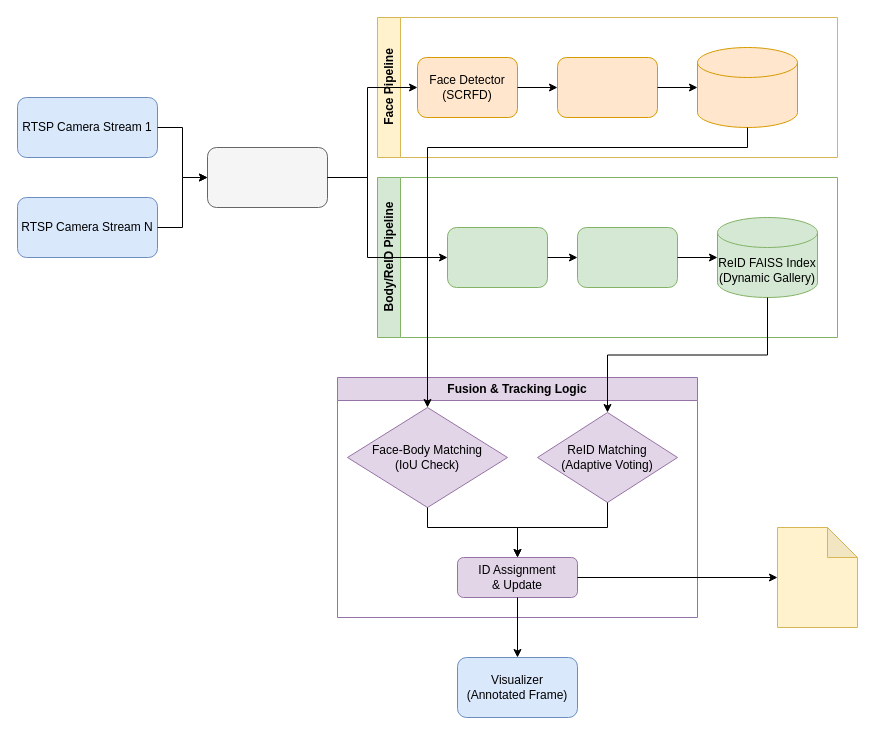
Image size: 875x735. Some labels were removed from this diagram. The centre of each missing label's shape, as x and y in pixels:
"Face FAISS Index (Known Faces)" belongs at pixel 747 87.
"Face Recognizer (ArcFace)" belongs at pixel 607 87.
"Feature Extractor (TransReID/ViT)" belongs at pixel 627 257.
"Logging System (JSON)" belongs at pixel 817 577.
"Person Detector (YOLOv11)" belongs at pixel 497 257.
"ThreadedStream (Frame Capture)" belongs at pixel 267 177.
